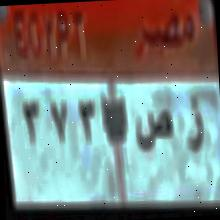3: (21, 96, 43, 160), (76, 94, 98, 156)
7: (49, 92, 71, 157)
saad: (134, 105, 177, 167)
zay: (182, 88, 207, 165)
